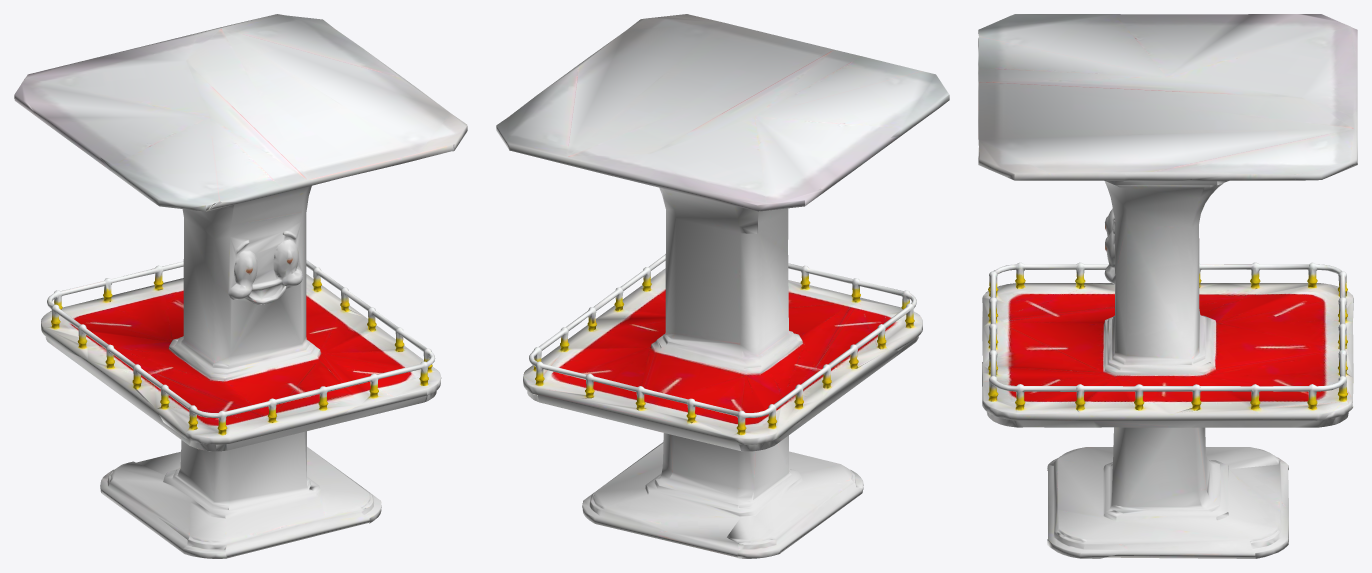
The model's file is ex_pillar.glb.
3 views of the same model, side by side, from view 1: azimuth 30°, elevation 25°; view 2: azimuth 150°, elevation 25°; view 3: azimuth 270°, elevation 25° (orthographic). The views are drawn at different scales.
Size of the model in its own units: 1.58 by 1.91 by 1.59.
Materials: 1 (1 with a texture image).
